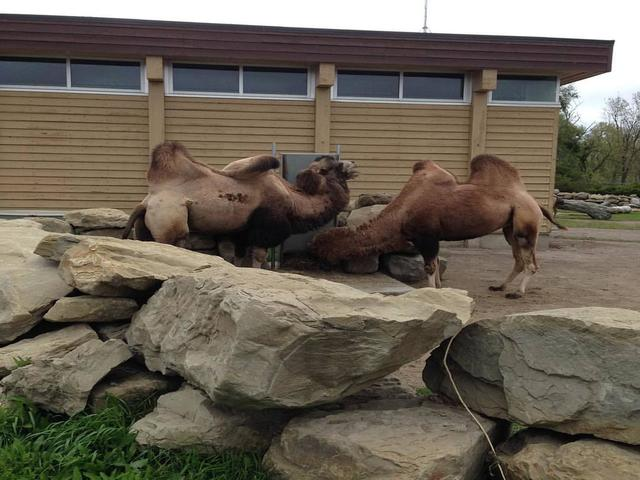camel: (125, 119, 366, 244)
